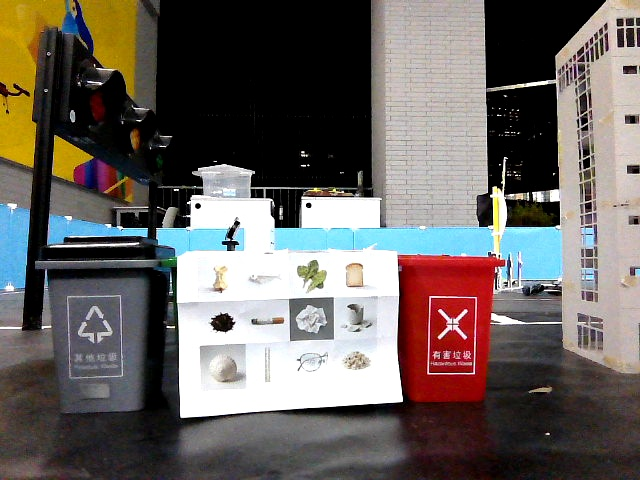food_trash: (198, 258, 241, 301), (291, 257, 333, 297), (244, 259, 287, 298), (200, 304, 243, 343), (336, 257, 376, 295), (336, 342, 376, 376)
other_trash: (201, 345, 245, 388), (243, 302, 290, 342), (334, 299, 376, 340), (291, 299, 332, 339), (246, 345, 288, 384), (290, 341, 332, 379)
